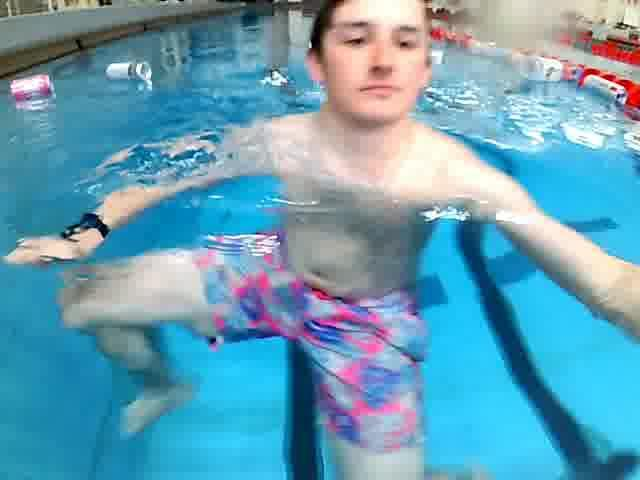Bottle: (509, 47, 566, 88)
CamMount: (576, 64, 618, 108)
Can: (0, 63, 59, 101), (93, 55, 168, 83), (425, 35, 445, 73)
